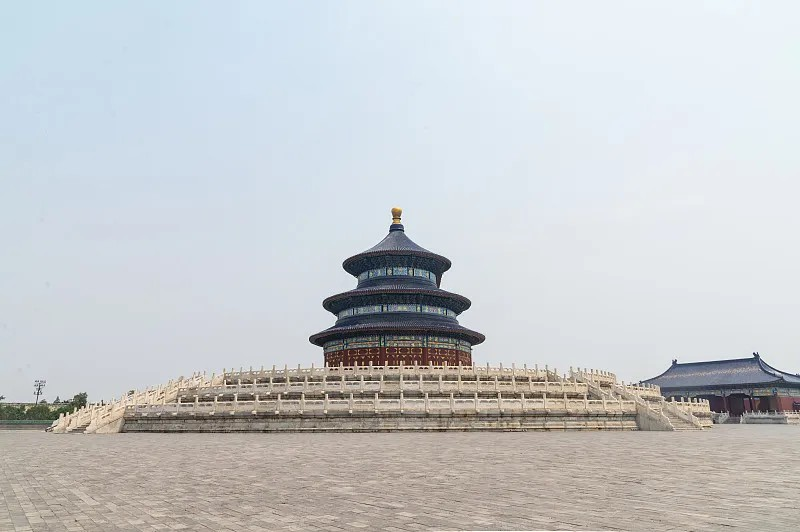Heaven: (308, 207, 485, 370)
